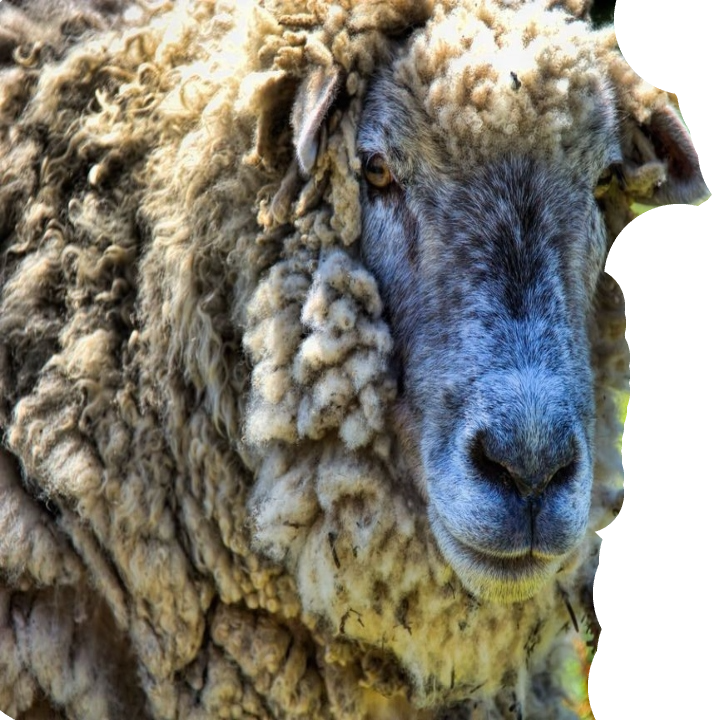Sheep: (0, 0, 719, 720)
